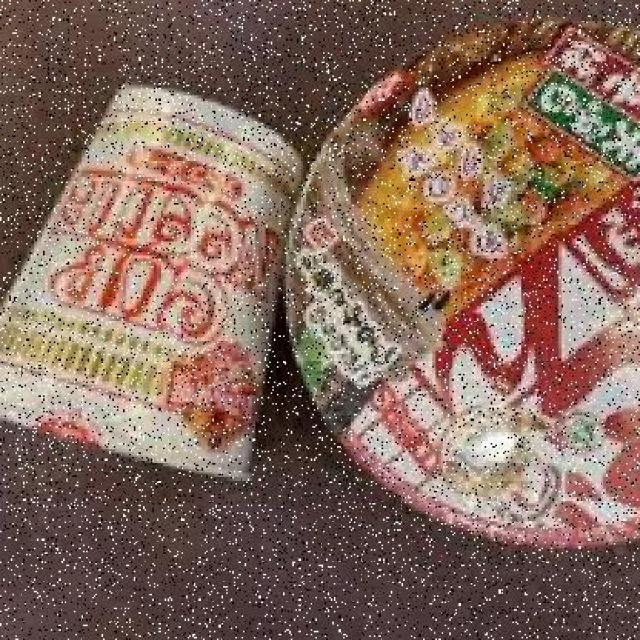Miscellaneous: (252, 8, 640, 550), (0, 48, 269, 497)
